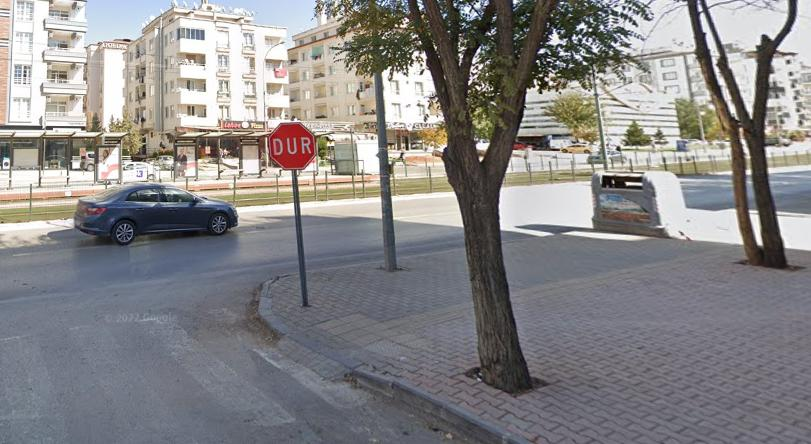stop: (269, 121, 316, 170)
